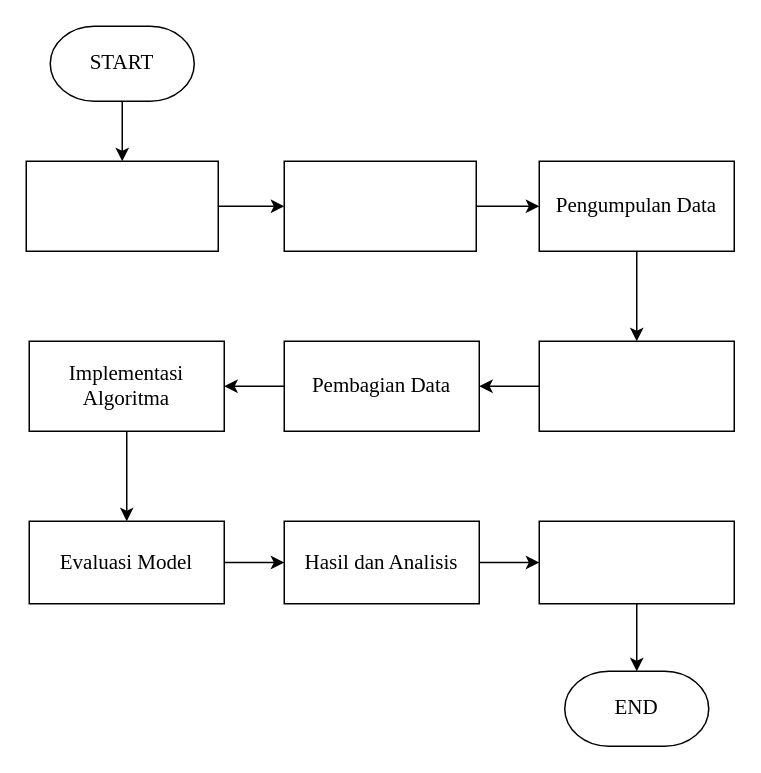
Some shapes in this 761 by 773 pixel diagram are drawn without their labels. Each missing label, with the centre of its shape:
Identifikasi Masalah: (121,205)
Kesimpulan dan Saran: (636,562)
Preprocessing Data: (636,385)
Studi Literatur: (379,205)
